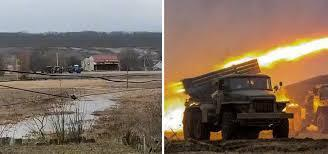MIL_SAM_TEL: (182, 57, 293, 143), (279, 70, 328, 133)
